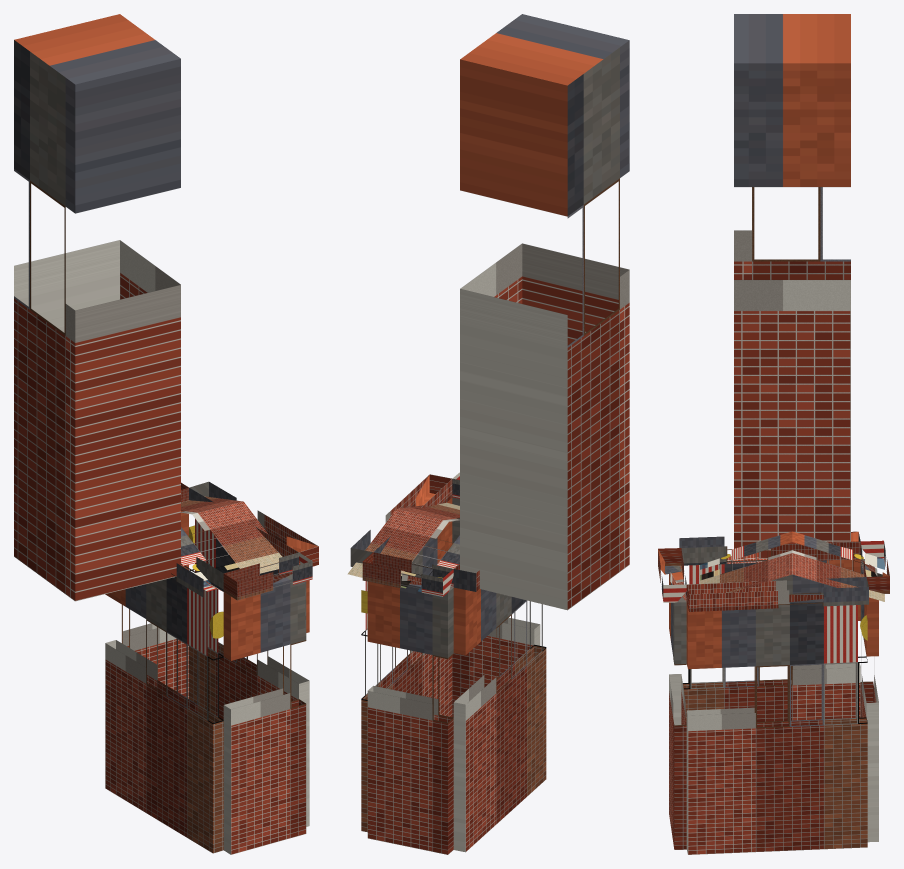
The picture shows the model from 3 angles, left to right: view 1: azimuth 30°, elevation 25°; view 2: azimuth 150°, elevation 25°; view 3: azimuth 270°, elevation 25°; orthographic projection. The views are drawn at different scales.
Visible parts, largest first — view 1: 1106965488__chimney_0_xb, 1106965488__wall_2_xb, 1106965488__wall_1_xb, 1106965488__wall_0_xb, 1106965488_roof_-1_xb, 1106965488__wall_3_xb, 1106965488__cornice_1, 1106965488__cornice_0, 1106965488__cornice_2, 1106965488_roof_1_xb; view 2: 1106965488__chimney_0_xb, 1106965488__wall_3_xb, 1106965488__wall_2_xb, 1106965488__wall_0_xb, 1106965488__wall_1_xb, 1106965488_roof_1_xb, 1106965488__cornice_3, 1106965488__cornice_0, 1106965488_roof_-1_xb, 1106965488__cornice_2; view 3: 1106965488__chimney_0_xb, 1106965488__wall_0_xb, 1106965488__wall_2_xb, 1106965488__cornice_0, 1106965488__wall_1_xb, 1106965488__wall_3_xb, 1106965488_roof_-1_xb, 1106965488_roof_1_xb, 1106965488__cornice_2, 1106965488__cornice_1, 1106965488__cornice_3.
Part boxes in pixels (<box>): 1106965488__chimney_0_xb: <box>14,14,180,601</box>; 1106965488__wall_2_xb: <box>105,577,223,853</box>; 1106965488__wall_1_xb: <box>223,574,306,854</box>; 1106965488__wall_0_xb: <box>189,518,309,826</box>; 1106965488_roof_-1_xb: <box>181,501,282,587</box>; 1106965488__wall_3_xb: <box>122,511,188,698</box>; 1106965488__cornice_1: <box>223,552,312,600</box>; 1106965488__cornice_0: <box>189,481,318,566</box>; 1106965488__cornice_2: <box>171,557,223,597</box>; 1106965488_roof_1_xb: <box>181,496,242,514</box>; 1106965488__chimney_0_xb: <box>460,14,629,610</box>; 1106965488__wall_3_xb: <box>367,581,453,854</box>; 1106965488__wall_2_xb: <box>453,587,546,852</box>; 1106965488__wall_0_xb: <box>361,498,452,832</box>; 1106965488__wall_1_xb: <box>452,497,540,717</box>; 1106965488_roof_1_xb: <box>347,509,459,596</box>; 1106965488__cornice_3: <box>362,552,453,596</box>; 1106965488__cornice_0: <box>350,474,452,566</box>; 1106965488_roof_-1_xb: <box>397,502,459,521</box>; 1106965488__cornice_2: <box>453,563,479,591</box>; 1106965488__chimney_0_xb: <box>734,14,850,558</box>; 1106965488__wall_0_xb: <box>686,599,867,854</box>; 1106965488__wall_2_xb: <box>683,559,860,722</box>; 1106965488__cornice_0: <box>686,577,868,611</box>; 1106965488__wall_1_xb: <box>669,566,686,849</box>; 1106965488__wall_3_xb: <box>860,559,878,842</box>; 1106965488_roof_-1_xb: <box>700,531,792,592</box>; 1106965488_roof_1_xb: <box>792,531,884,601</box>; 1106965488__cornice_2: <box>679,531,860,565</box>; 1106965488__cornice_1: <box>658,548,686,602</box>; 1106965488__cornice_3: <box>860,540,889,593</box>.
Size of the model in its own units: 0.3122 by 1.05 by 0.2971.
1 material, 1 textured.
